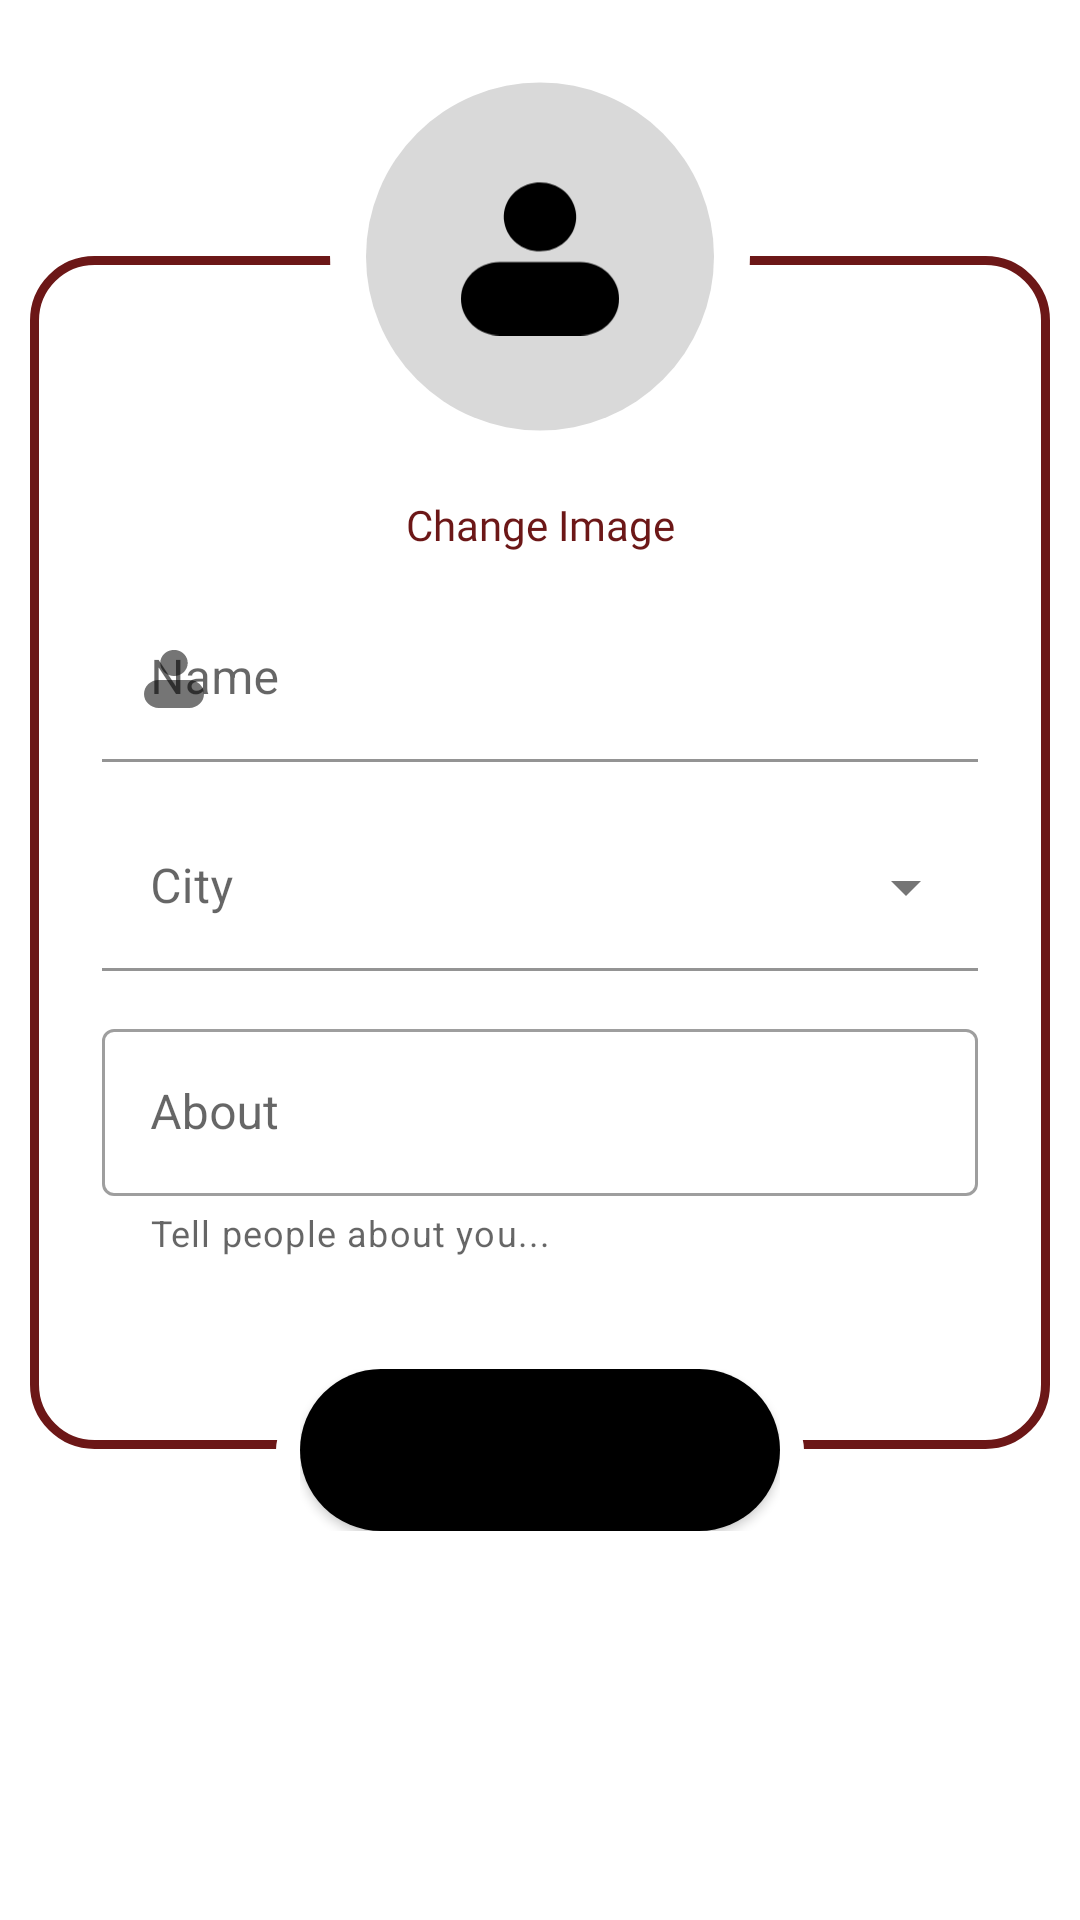

Icons on this 1080px×1920px Android screen, each with its box as (x1, y1, x2, y2):
user: (366, 83, 714, 430)
